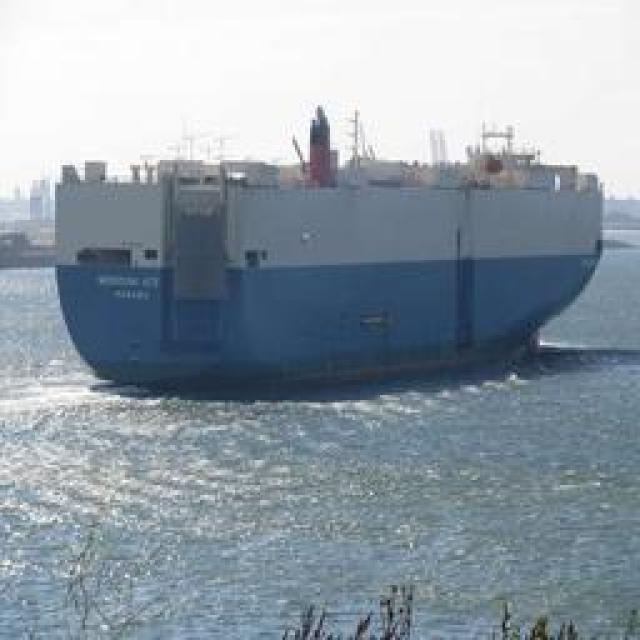ship2: (50, 109, 604, 399)
